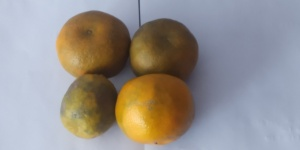BAD: (116, 73, 198, 145), (57, 10, 131, 78), (130, 17, 198, 82), (59, 75, 120, 143)
